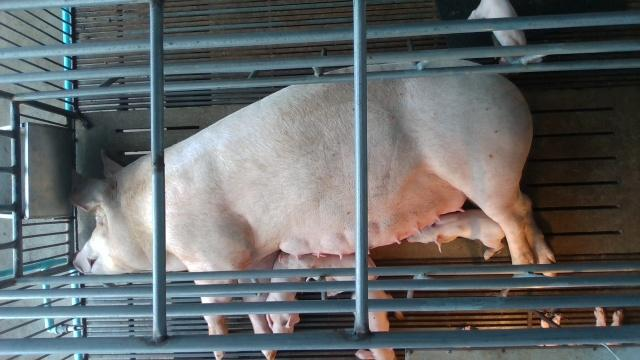piglet: (409, 208, 505, 262), (468, 0, 545, 64), (278, 250, 379, 295), (356, 287, 403, 359), (265, 253, 305, 335)
sow-sleep-lactate: (72, 62, 556, 360)
